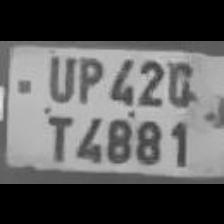1: (164, 111, 195, 167)
2: (134, 54, 164, 106)
4: (104, 53, 136, 106), (72, 110, 104, 162)
8: (130, 113, 162, 164), (102, 110, 132, 162)
P: (73, 52, 105, 104)
T: (40, 107, 74, 162)
U: (42, 51, 74, 102)
